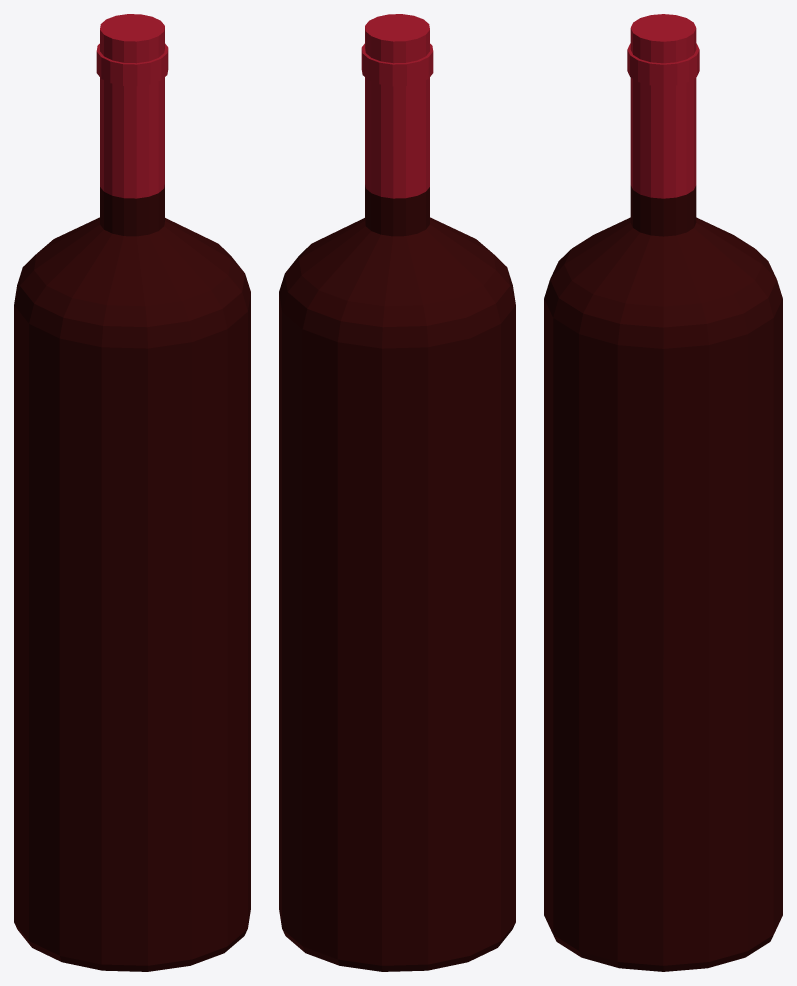
The model's file is Vino_Tinto.fbx.
3 views of the same model, side by side, from view 1: azimuth 30°, elevation 25°; view 2: azimuth 150°, elevation 25°; view 3: azimuth 270°, elevation 25° (orthographic).
Parts seen in each view (by area): view 1: Vino_Tinto; view 2: Vino_Tinto; view 3: Vino_Tinto.
Boxes of the visible parts, x1,y1,x2,y2 form: Vino_Tinto: [14, 14, 250, 971]; Vino_Tinto: [279, 14, 515, 971]; Vino_Tinto: [544, 14, 782, 971].
Size of the model in its own units: 10 by 41.5 by 10.
